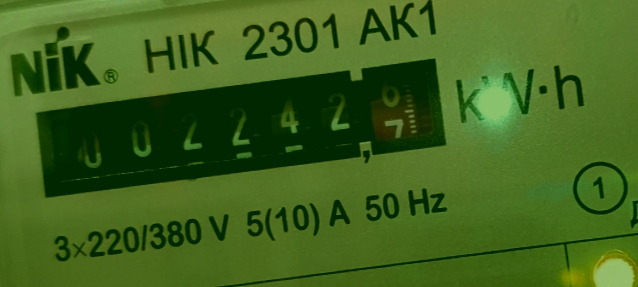0: (125, 115, 155, 160), (78, 125, 105, 172), (177, 108, 205, 153)
2: (323, 88, 352, 134), (225, 103, 253, 149)
4: (274, 92, 302, 137)
6: (377, 74, 404, 109)
7: (381, 116, 407, 141)
screen: (23, 45, 465, 213)
